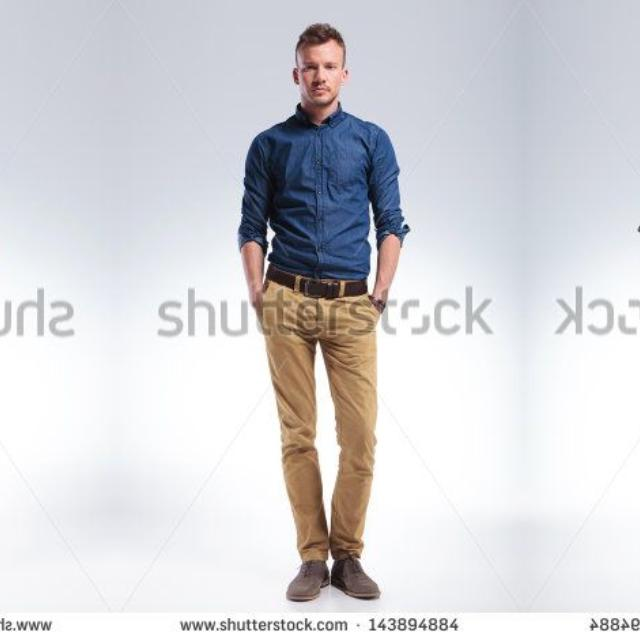person: (218, 3, 440, 621), (607, 3, 640, 621), (0, 3, 11, 621)
